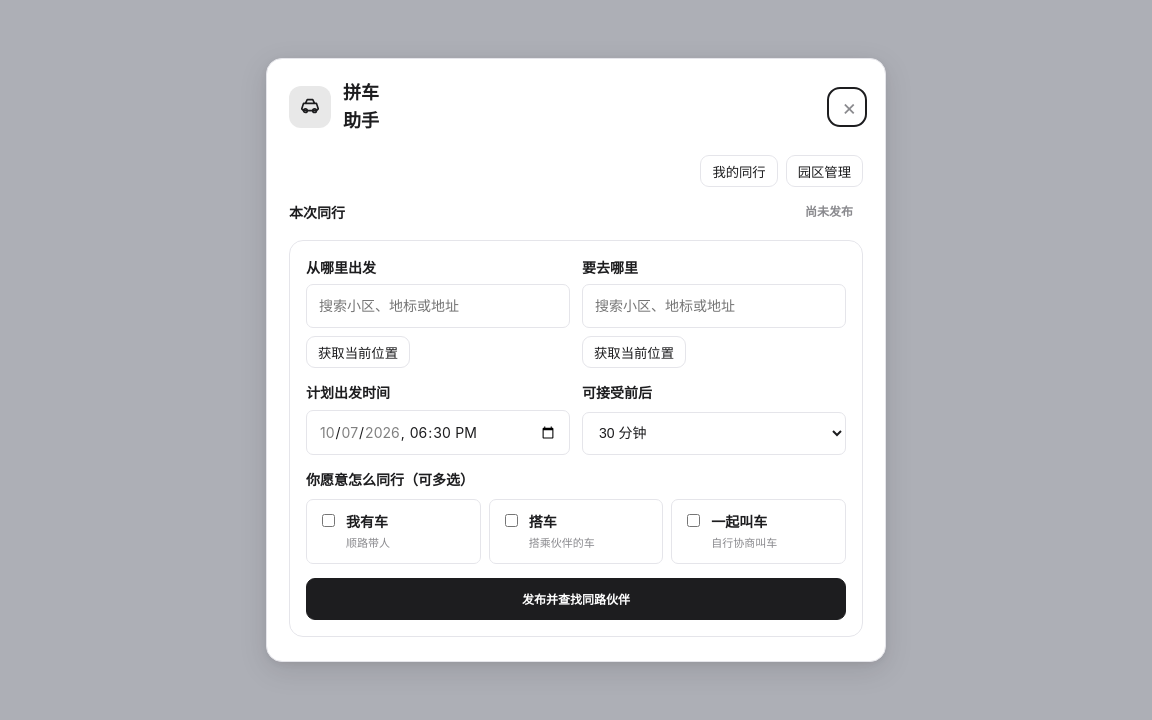
it: 拼车助手界面 › keeps an unpublished form separate from personal messages and administration
Check: the button "园区管理" is shown, box [786,155,863,187]
Check: the text "公共集合点名称" is not shown
Type "未提交的地点" into the dropdown named "从哪里出发搜索" at (438, 306), box [306,284,570,328]
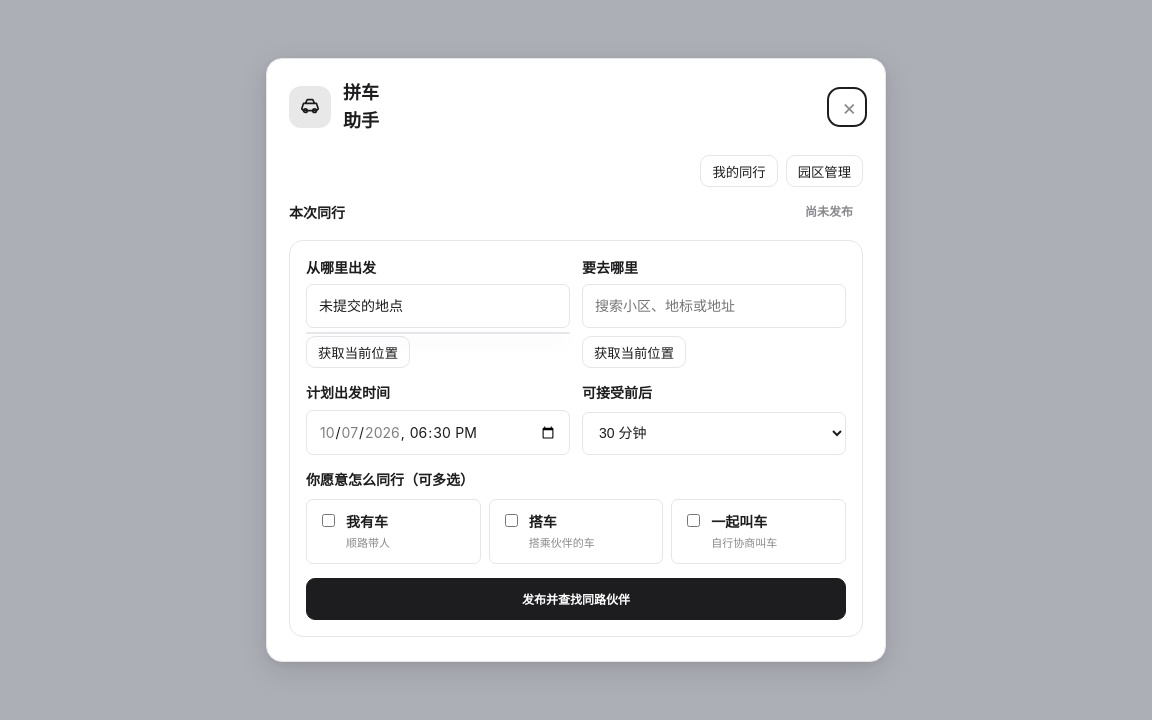
Click the button "园区管理" at (824, 171), box [786,155,863,187]
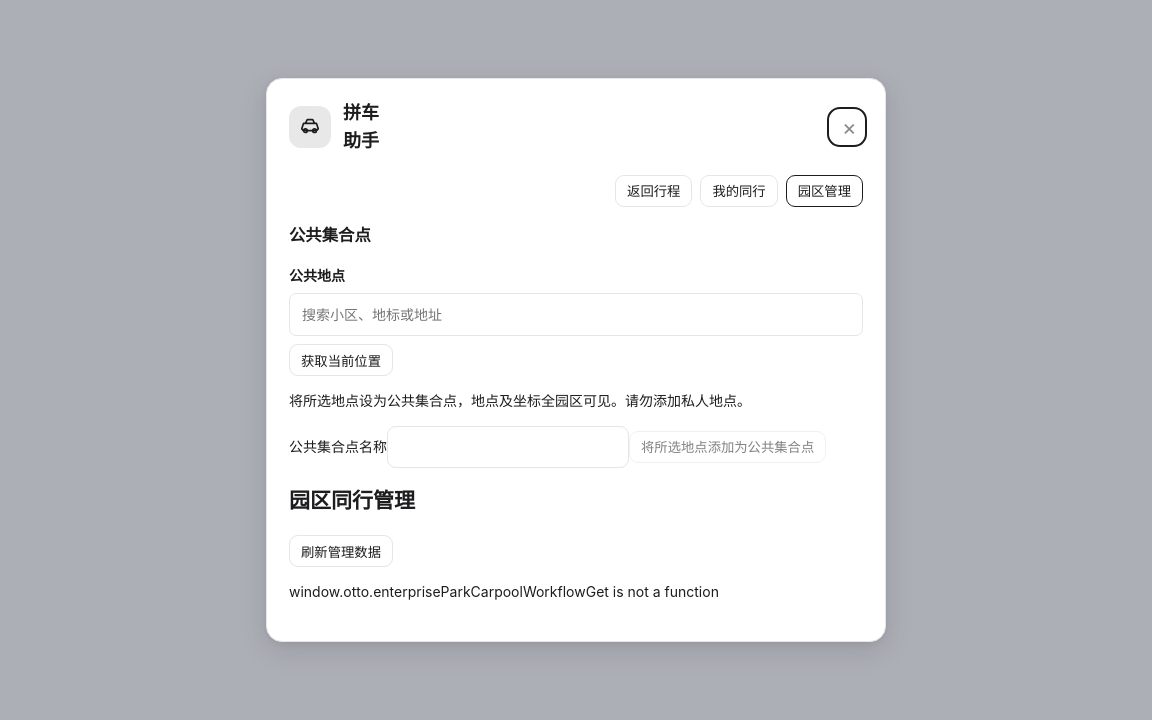
Check: the text "公共集合点名称" is shown, box [289,438,629,455]
Check: the button "发布并查找同路伙伴" is gone
Click the button "返回行程" at (654, 191), box [615,175,692,207]
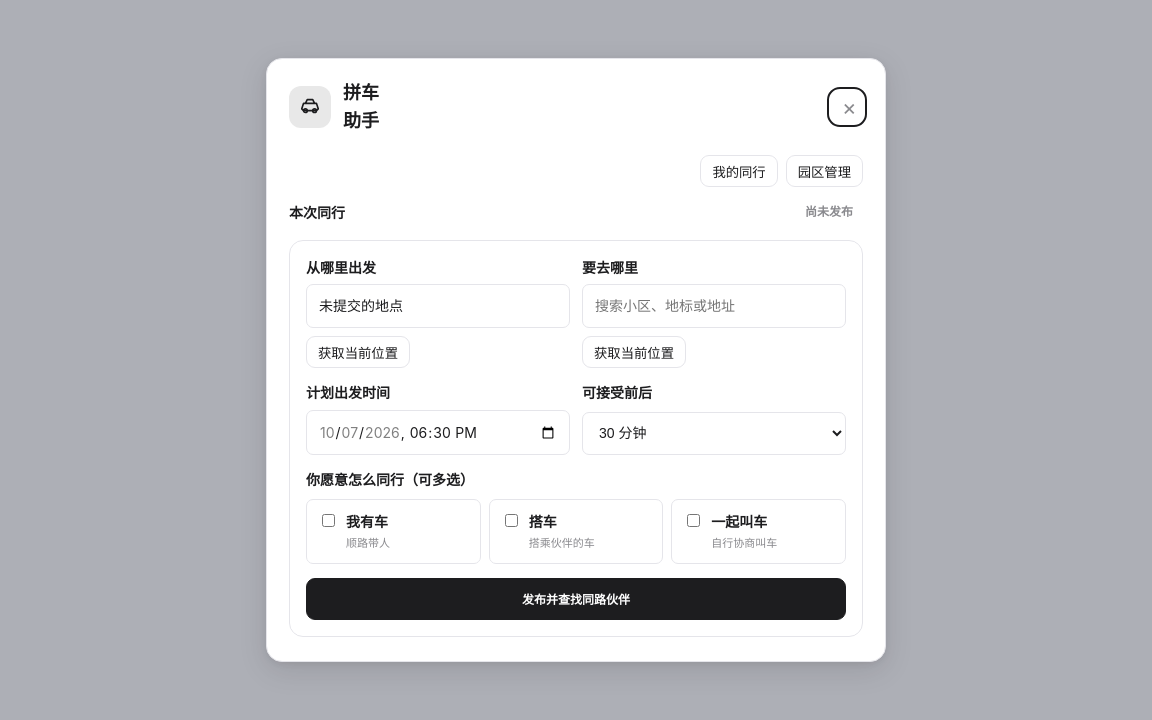
Check: the dropdown named "从哪里出发搜索" holds "未提交的地点", box [306,284,570,328]
